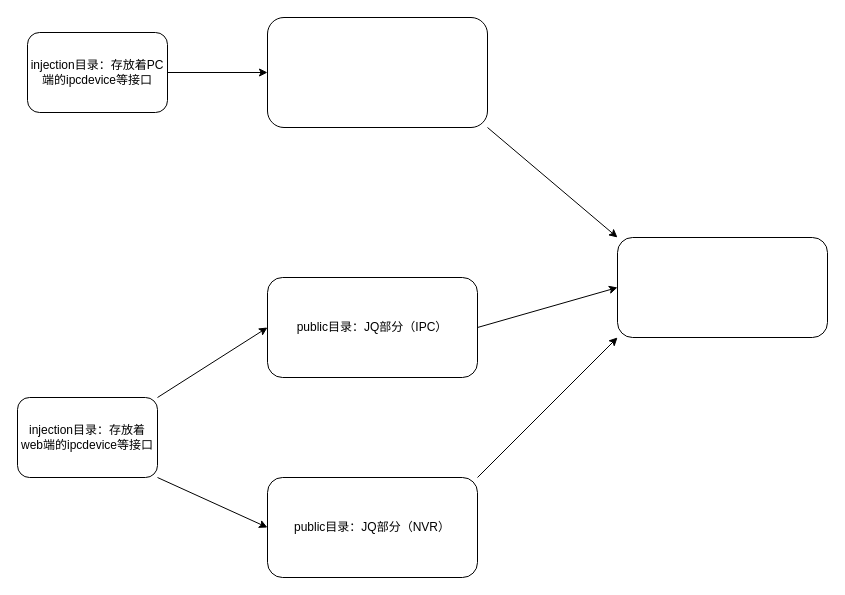
Image size: 845x595. Some labels were removed from this diagram. Here are the shapes that lost their labels. From the top down, the centre of each, then its label:
At (377,72): "private目录：存放着PC独有的主进程代码和只有PC有的UI组件和页面".
At (722,287): "src目录：dialog、ptz、远程配置组件、资源文件".
